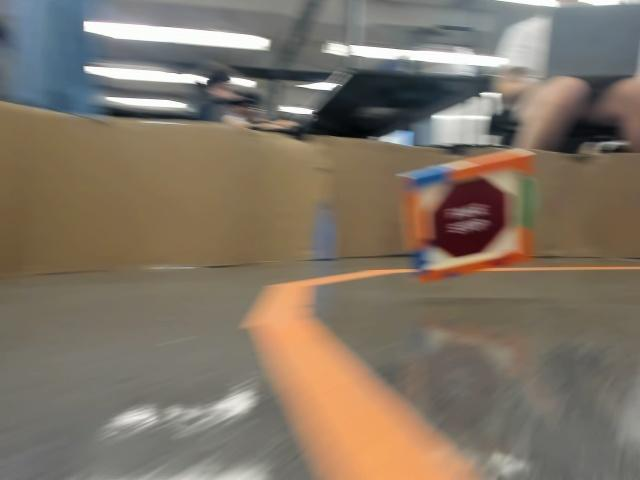Fake Stop: (429, 183, 500, 258)
